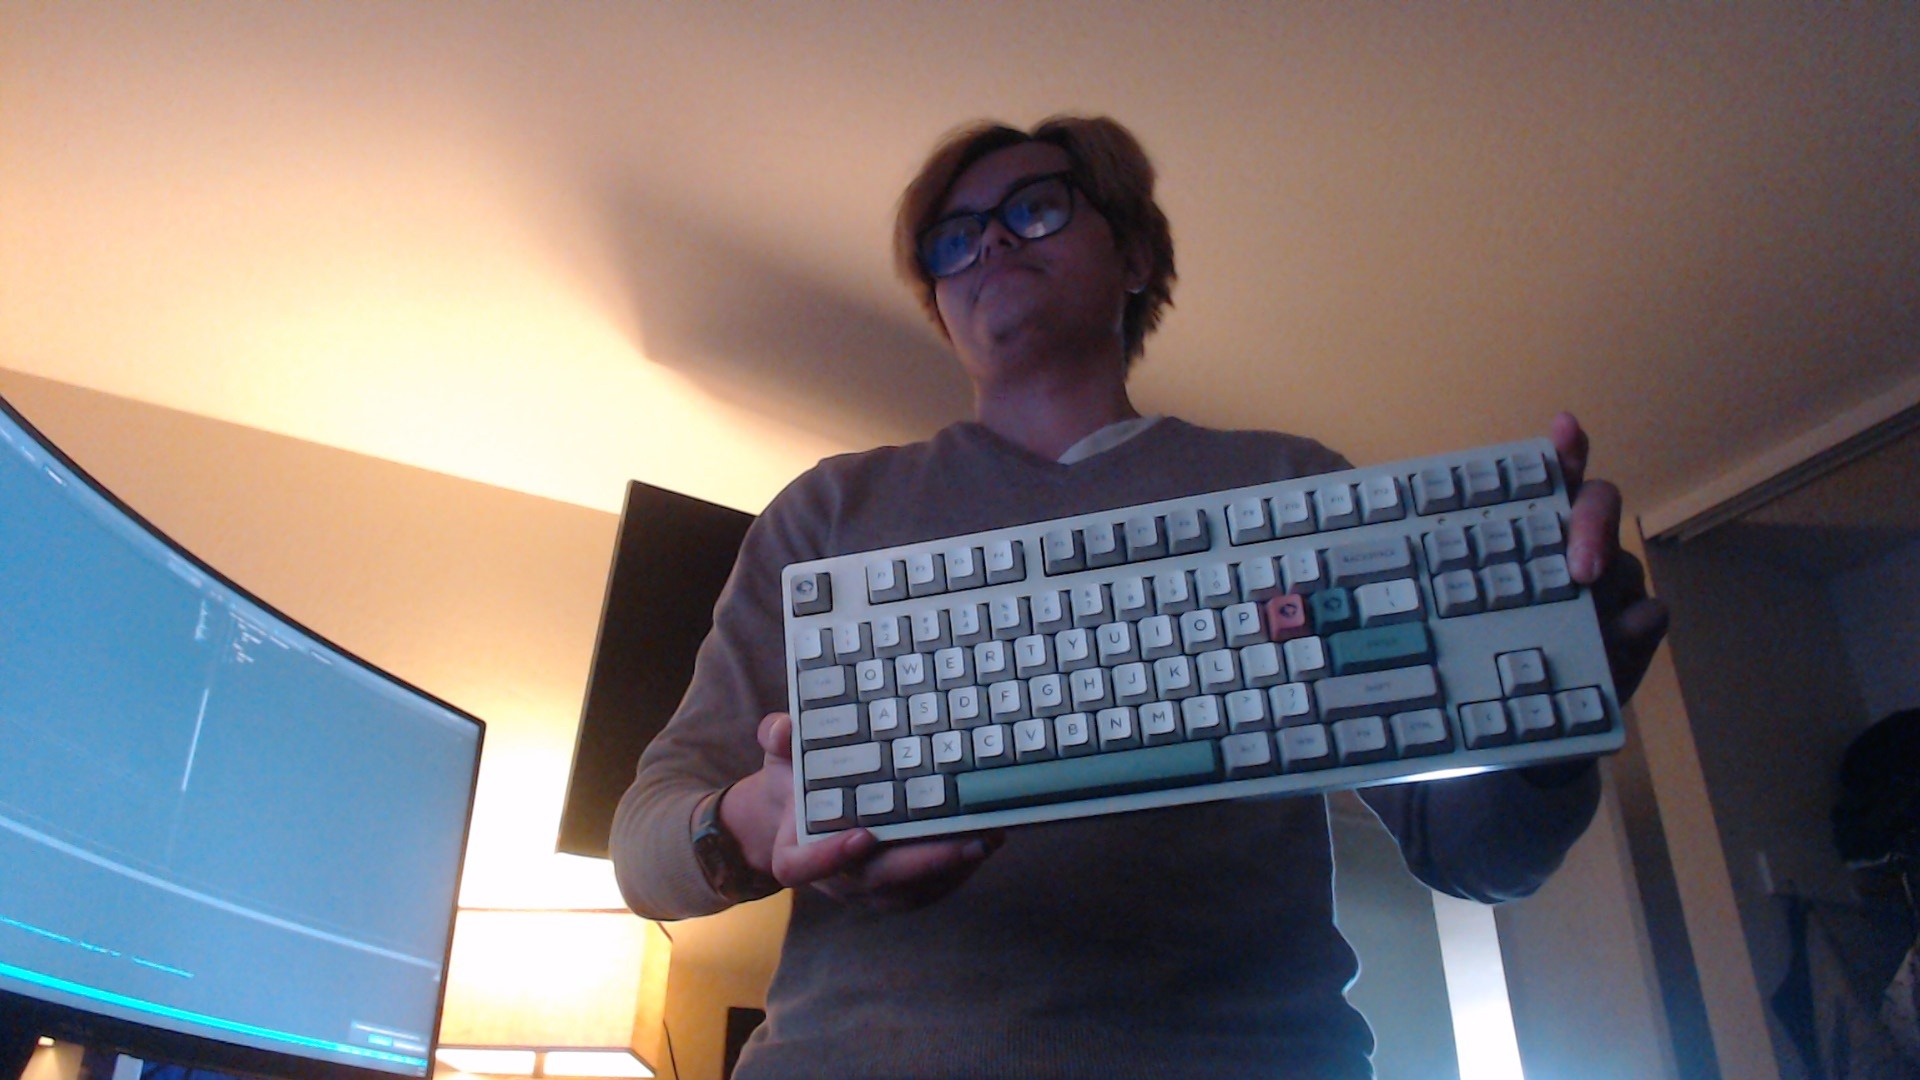keyboard: (775, 436, 1631, 851)
